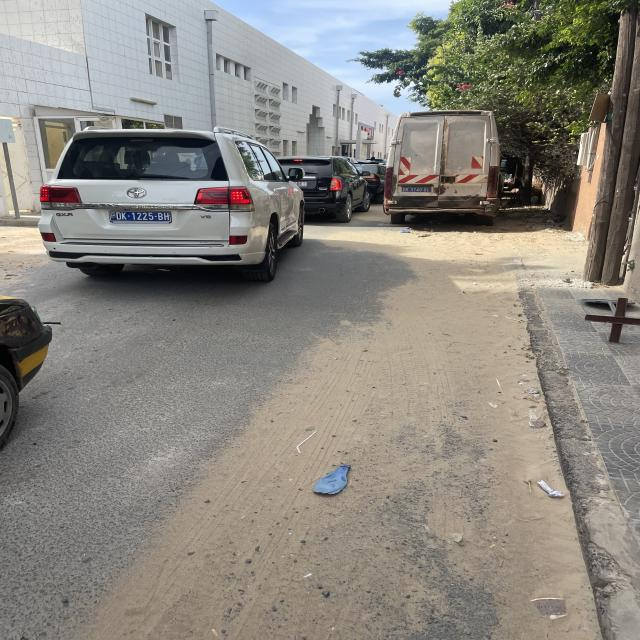fourgon: (384, 110, 505, 226)
particulier: (35, 126, 308, 285), (273, 156, 376, 225)
taxi: (1, 293, 55, 468)
